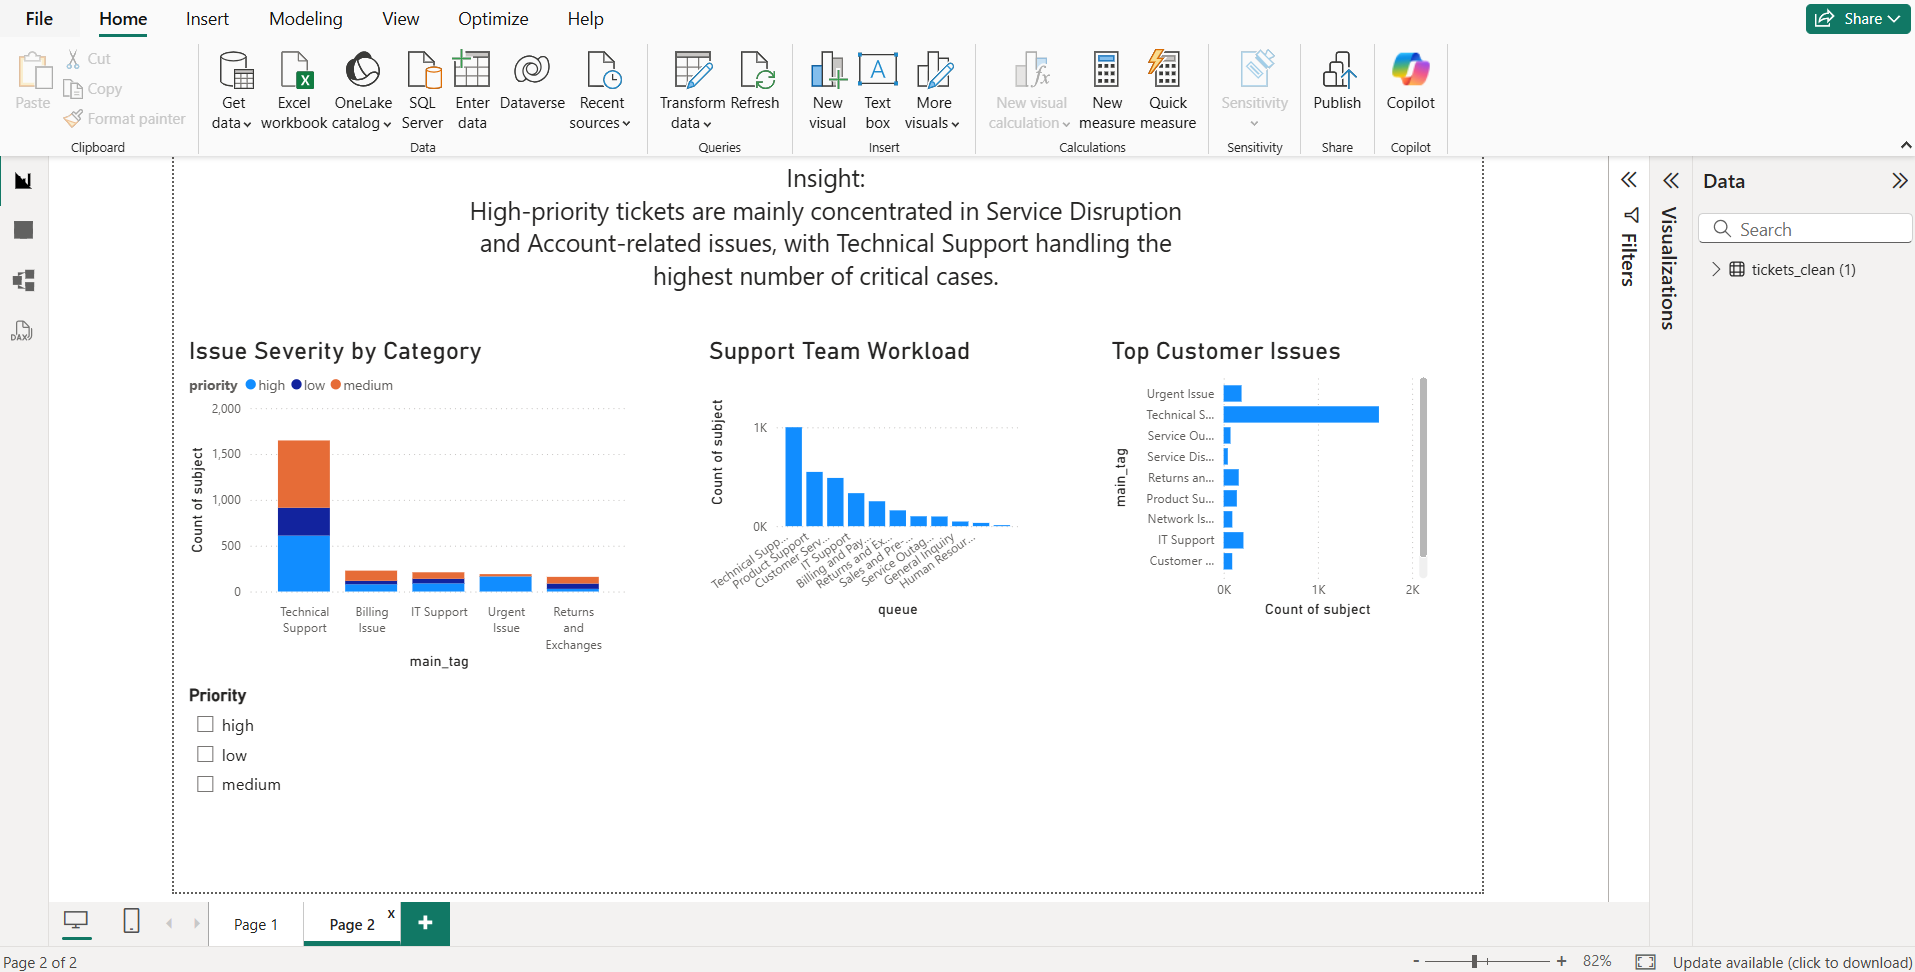

This screenshot's page, from the dashboard's own definition file:
{"tool":"powerbi","page":{"name":"Page 2","canvas":[1280,720],"ordinal":1},"visuals":[{"type":"clusteredBarChart","title":"Top Customer Issues","fields":{"Category":["tickets_clean (2).main_tag"],"Y":["CountNonNull(tickets_clean (2).subject)"]},"box":[912.2,176.1,319.2,280],"z":0},{"type":"columnChart","title":"Issue Severity by Category","fields":{"Category":["tickets_clean (2).main_tag"],"Series":["tickets_clean (2).priority"],"Y":["CountNonNull(tickets_clean (2).subject)"]},"box":[9.6,175.6,439.1,330.7],"z":1000},{"type":"clusteredColumnChart","title":"Support Team Workload","fields":{"Category":["tickets_clean (2).queue"],"Y":["CountNonNull(tickets_clean (2).subject)"]},"box":[518.5,176.1,313,280],"z":2000},{"type":"textbox","box":[9.6,0,1255.6,171.5],"z":3000},{"type":"slicer","title":"Priority","fields":{"Values":["tickets_clean (2).priority"]},"box":[10,517,439,203],"z":4000}]}

Visuals, with their boxes on the page's 1280x720 design canvas (x1, y1, x2, y2). These are canvas units, not pixel positions in the 1915x972 screenshot, which may show the page scaled, cropped or inside an application window:
"Top Customer Issues" clusteredBarChart: {"x1": 912, "y1": 176, "x2": 1231, "y2": 456}
"Issue Severity by Category" columnChart: {"x1": 10, "y1": 176, "x2": 449, "y2": 506}
"Support Team Workload" clusteredColumnChart: {"x1": 518, "y1": 176, "x2": 832, "y2": 456}
textbox: {"x1": 10, "y1": 0, "x2": 1265, "y2": 172}
"Priority" slicer: {"x1": 10, "y1": 517, "x2": 449, "y2": 720}
